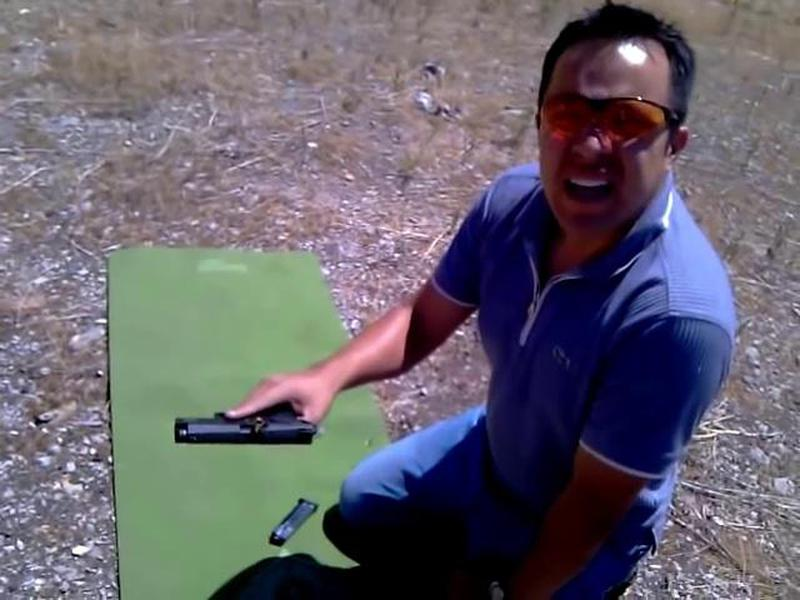Pistola: (151, 386, 357, 470)
